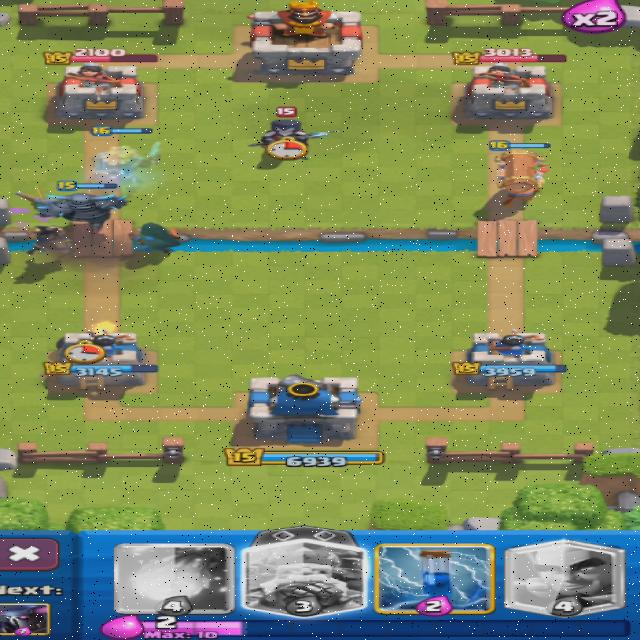Enemy-KingTower: (250, 1, 361, 76)
Enemy-NightWitch: (248, 119, 341, 149)
Enemy-PrincessTower: (55, 58, 143, 120), (464, 62, 552, 120)
Player-Bandit: (135, 223, 180, 253)
Player-BattleRam: (494, 149, 544, 205)
Player-ElectroWizard: (29, 225, 70, 254)
Player-KingTower-Activated: (249, 375, 360, 443)
Player-PEKKA: (36, 193, 126, 227)
Player-PrincessTower: (43, 328, 158, 389), (452, 330, 564, 390)
Player-RoyalGhost: (93, 142, 158, 184)
